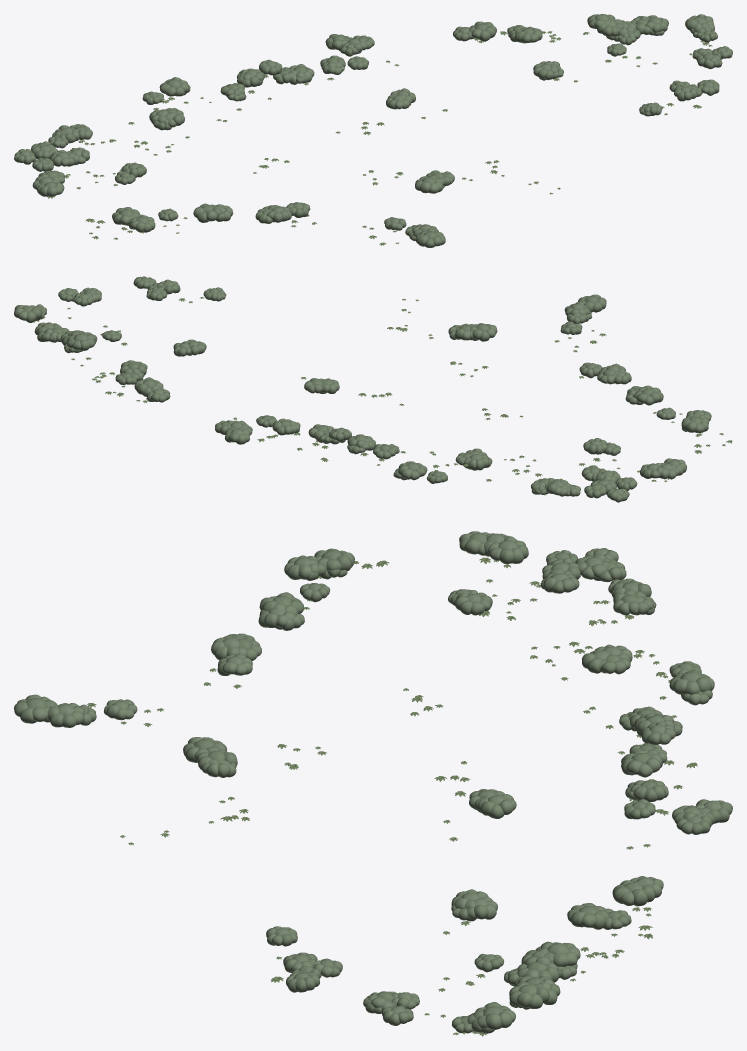
File: groves.glb
The picture shows the model from 3 angles, top to bottom: view 1: azimuth 30°, elevation 25°; view 2: azimuth 150°, elevation 25°; view 3: azimuth 270°, elevation 25°; orthographic projection. The views are drawn at different scales.
Parts seen in each view (by area): view 1: Grove198_1_5, Grove198_10_5, Grove198_5_6, Grove198_11_5, Grove198_6_6, Grove198_3_2, Grove198_2_3, Grove198_11_4, Grove198_10_3, Grove198_1_3, Grove198_1_6, Grove198_7_7 (+11 smaller); view 2: Grove198_1_5, Grove198_11_5, Grove198_6_6, Grove198_5_6, Grove198_10_5, Grove198_2_3, Grove198_3_2, Grove198_1_6, Grove198_4_1, Grove198_10_3, Grove198_9_6, Grove198_7_7 (+11 smaller); view 3: Grove198_1_5, Grove198_10_5, Grove198_11_5, Grove198_6_6, Grove198_2_3, Grove198_11_4, Grove198_3_2, Grove198_1_3, Grove198_10_3, Grove198_4_1, Grove198_9_6, Grove198_5_6 (+11 smaller).
Part boxes in pixels (x1=…): Grove198_1_5: x1=32, y1=147, x2=98, y2=198; Grove198_10_5: x1=583, y1=14, x2=641, y2=62; Grove198_5_6: x1=237, y1=59, x2=308, y2=101; Grove198_11_5: x1=630, y1=14, x2=714, y2=42; Grove198_6_6: x1=289, y1=55, x2=368, y2=85; Grove198_3_2: x1=255, y1=202, x2=316, y2=227; Grove198_2_3: x1=158, y1=203, x2=233, y2=233; Grove198_11_4: x1=689, y1=30, x2=732, y2=69; Grove198_10_3: x1=662, y1=79, x2=719, y2=115; Grove198_1_3: x1=96, y1=207, x2=155, y2=239; Grove198_1_6: x1=14, y1=136, x2=68, y2=164; Grove198_7_7: x1=325, y1=34, x2=374, y2=56; Grove198_1_5: x1=581, y1=458, x2=686, y2=491; Grove198_11_5: x1=14, y1=305, x2=69, y2=342; Grove198_6_6: x1=256, y1=415, x2=333, y2=450; Grove198_5_6: x1=315, y1=427, x2=384, y2=461; Grove198_10_5: x1=60, y1=330, x2=127, y2=360; Grove198_2_3: x1=625, y1=385, x2=682, y2=422; Grove198_3_2: x1=579, y1=362, x2=631, y2=384; Grove198_1_6: x1=566, y1=479, x2=629, y2=502; Grove198_4_1: x1=554, y1=301, x2=606, y2=347; Grove198_10_3: x1=133, y1=276, x2=203, y2=302; Grove198_9_6: x1=92, y1=360, x2=147, y2=401; Grove198_7_7: x1=215, y1=420, x2=252, y2=444; Grove198_1_5: x1=459, y1=531, x2=580, y2=601; Grove198_10_5: x1=467, y1=941, x2=580, y2=986; Grove198_11_5: x1=467, y1=976, x2=560, y2=1036; Grove198_6_6: x1=621, y1=750, x2=683, y2=819; Grove198_2_3: x1=258, y1=583, x2=329, y2=630; Grove198_11_4: x1=363, y1=991, x2=473, y2=1035; Grove198_3_2: x1=204, y1=633, x2=261, y2=688; Grove198_1_3: x1=284, y1=548, x2=358, y2=583; Grove198_10_3: x1=271, y1=952, x2=342, y2=992; Grove198_4_1: x1=48, y1=699, x2=151, y2=727; Grove198_9_6: x1=567, y1=903, x2=652, y2=958; Grove198_5_6: x1=617, y1=713, x2=682, y2=768.
Size of the model in its own units: 2841 by 102 by 1746.
